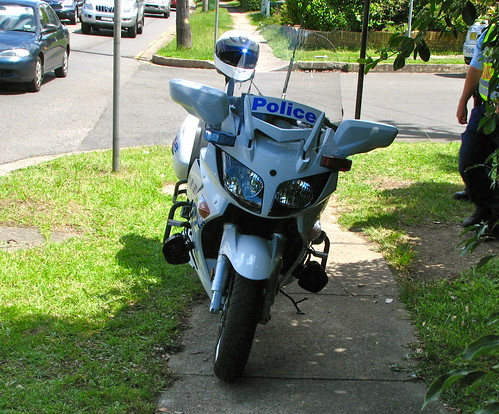car: (1, 1, 78, 80)
grass: (1, 155, 178, 414)
motorcycle: (152, 63, 369, 362)
street: (41, 56, 472, 150)
